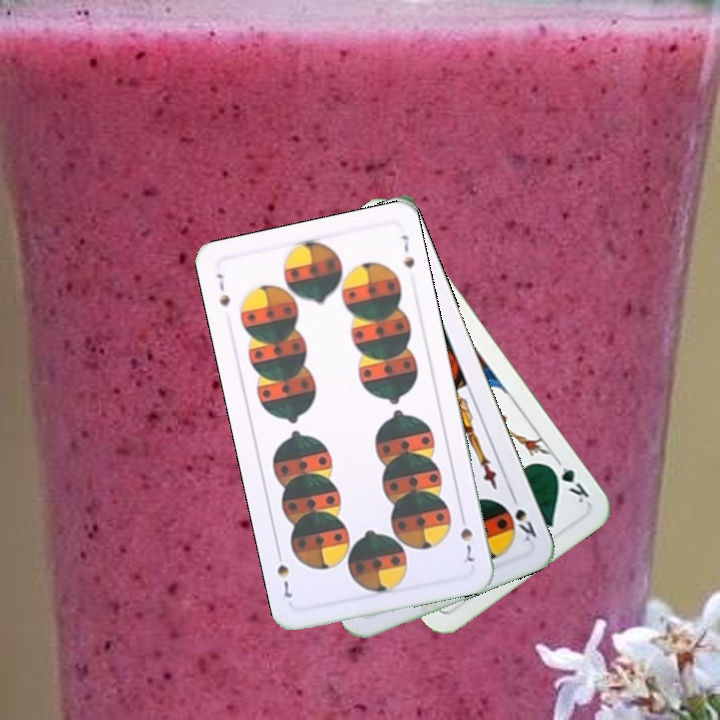GK: (545, 454, 592, 506)
S7: (456, 509, 477, 565), (212, 269, 233, 309)
SK: (500, 489, 540, 544)
